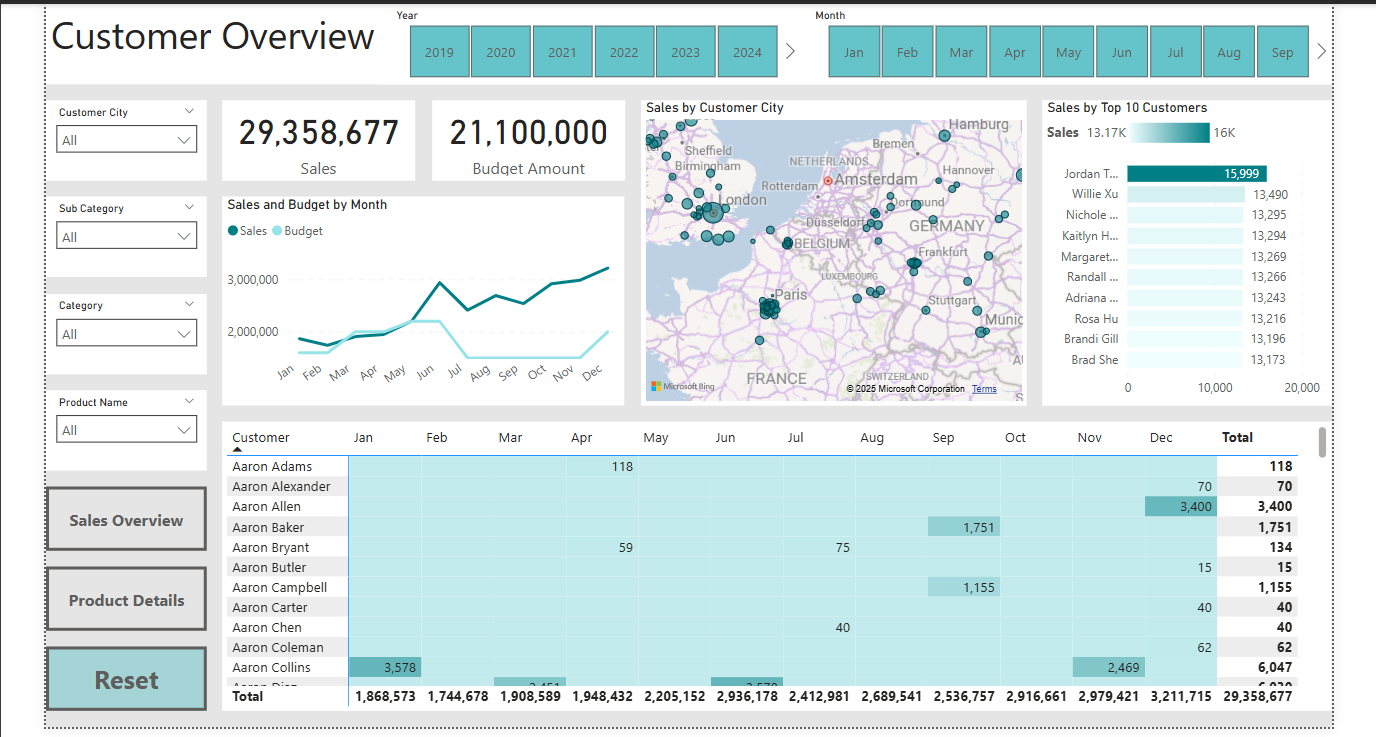

Layout of this report page (visuals, bound fields, positions):
{"tool":"powerbi","page":{"name":"Customer Details","canvas":[1280,720],"ordinal":1},"visuals":[{"type":"textbox","box":[0,0,1280,80],"z":0},{"type":"slicer","fields":{"Values":["DIM_Customers.Customer City"]},"box":[0,96,160,80],"z":1000},{"type":"slicer","fields":{"Values":["DIM_Products.Sub Category"]},"box":[0,192,160,80],"z":2000},{"type":"slicer","fields":{"Values":["DIM_Products.Product Name"]},"box":[0,384,160,80],"z":3000},{"type":"slicer","fields":{"Values":["DIM_Products.Product Category"]},"box":[0,288,160,80],"z":4000},{"type":"slicer","fields":{"Values":["Dim_Calender.Year"]},"box":[336,0,416,80],"z":5000},{"type":"slicer","fields":{"Values":["Dim_Calender.MonthShort"]},"box":[752,0,528,80],"z":6000},{"type":"lineChart","fields":{"Category":["Dim_Calender.MonthShort"],"Y":["Measures (2).Sales","Measures (2).Budget Amount"]},"box":[176,192,400,208],"z":7000},{"type":"barChart","title":"Sales by Top 10 Customers","fields":{"Y":["Measures (2).Sales"],"Category":["DIM_Customers.Full Name"]},"box":[992,96,288,304],"z":8000},{"type":"map","fields":{"Category":["DIM_Customers.Customer City"],"Size":["Measures (2).Sales"]},"box":[592,96,384,304],"z":9000},{"type":"card","fields":{"Values":["Measures (2).Sales"]},"box":[176,96,192,80],"z":10000},{"type":"card","fields":{"Values":["Measures (2).Budget Amount"]},"box":[384,96,192,80],"z":11000},{"type":"pivotTable","fields":{"Rows":["DIM_Customers.Full Name"],"Values":["Measures (2).Sales"],"Columns":["Dim_Calender.MonthShort"]},"box":[176,416,1104,288],"z":12000},{"type":"actionButton","box":[0,640,160,64],"z":12001},{"type":"actionButton","box":[0,560,160,64],"z":12002},{"type":"actionButton","box":[0,480,160,64],"z":12003}]}

Visuals, with their boxes on the page's 1280x720 design canvas (x1, y1, x2, y2). These are canvas units, not pixel positions in the 1376x737 screenshot, which may show the page scaled, cropped or inside an application window:
textbox: x1=0, y1=0, x2=1280, y2=80
slicer - DIM_Customers.Customer City: x1=0, y1=96, x2=160, y2=176
slicer - DIM_Products.Sub Category: x1=0, y1=192, x2=160, y2=272
slicer - DIM_Products.Product Name: x1=0, y1=384, x2=160, y2=464
slicer - DIM_Products.Product Category: x1=0, y1=288, x2=160, y2=368
slicer - Dim_Calender.Year: x1=336, y1=0, x2=752, y2=80
slicer - Dim_Calender.MonthShort: x1=752, y1=0, x2=1280, y2=80
lineChart - Dim_Calender.MonthShort x Measures (2).Sales: x1=176, y1=192, x2=576, y2=400
"Sales by Top 10 Customers" barChart: x1=992, y1=96, x2=1280, y2=400
map - DIM_Customers.Customer City x Measures (2).Sales: x1=592, y1=96, x2=976, y2=400
card - Measures (2).Sales: x1=176, y1=96, x2=368, y2=176
card - Measures (2).Budget Amount: x1=384, y1=96, x2=576, y2=176
pivotTable - DIM_Customers.Full Name x Measures (2).Sales: x1=176, y1=416, x2=1280, y2=704
actionButton: x1=0, y1=640, x2=160, y2=704
actionButton: x1=0, y1=560, x2=160, y2=624
actionButton: x1=0, y1=480, x2=160, y2=544
